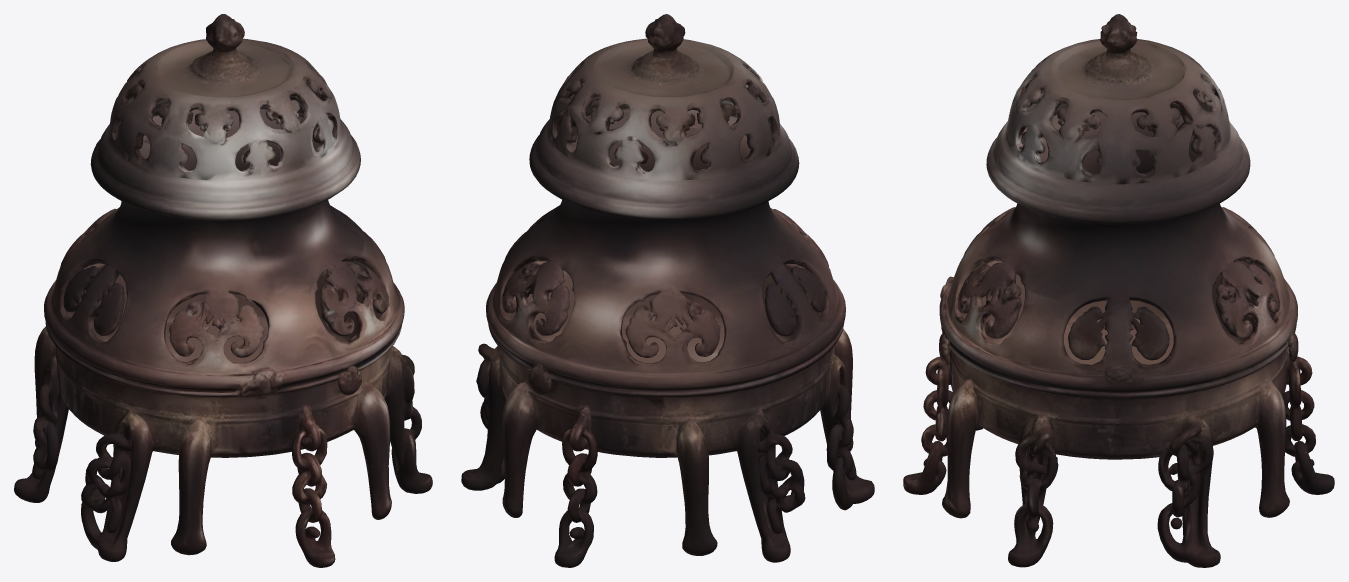
File: furong.glb
3 views of the same model, side by side, from view 1: azimuth 30°, elevation 25°; view 2: azimuth 150°, elevation 25°; view 3: azimuth 270°, elevation 25° (orthographic).
Parts seen in each view (by area): view 1: node_0; view 2: node_0; view 3: node_0.
Part boxes in pixels (bbox=[...]): node_0: bbox=[14, 14, 432, 567]; node_0: bbox=[461, 14, 874, 567]; node_0: bbox=[903, 14, 1334, 567].
Bounding box in the file's own units: 0.6699 × 0.9444 × 0.7692.
1 material, 1 textured.
